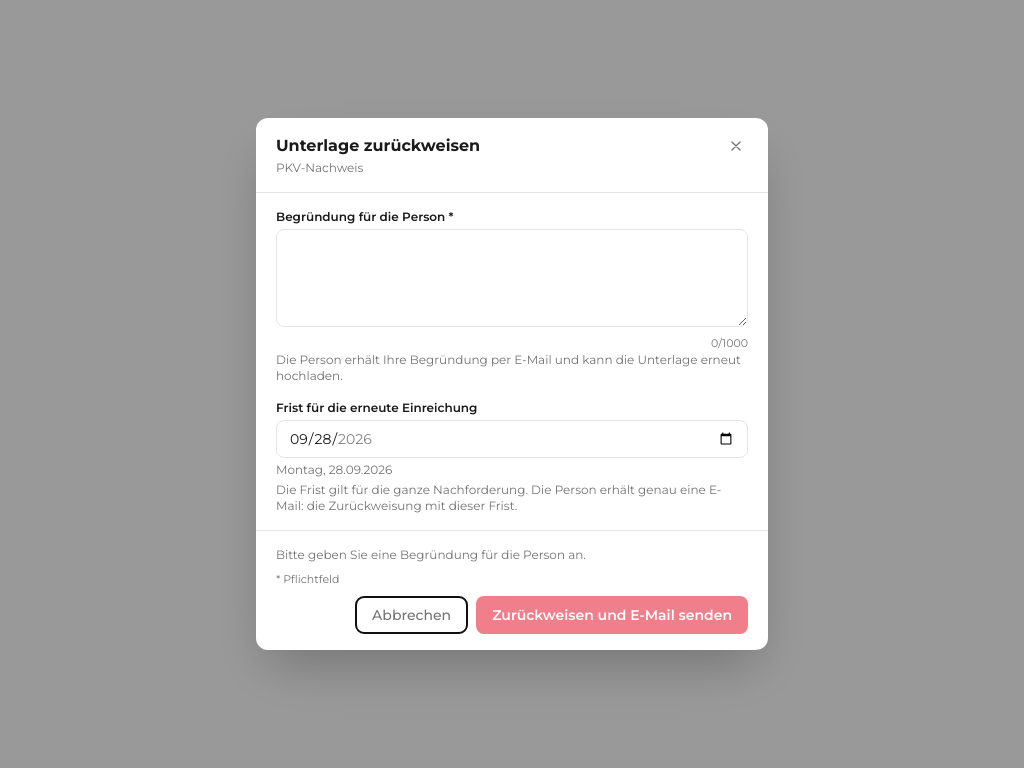
Test: Zurückweisen (EP-1, E-2) › Frist am Wochenende: Hinweis, aber keine Sperre (EP-5)
The width and height of the screenshot is (1024, 768).
Type "Unleserlich." into the text box labelled "Begründung für die Person *" at (512, 278), box [276,229,748,327]
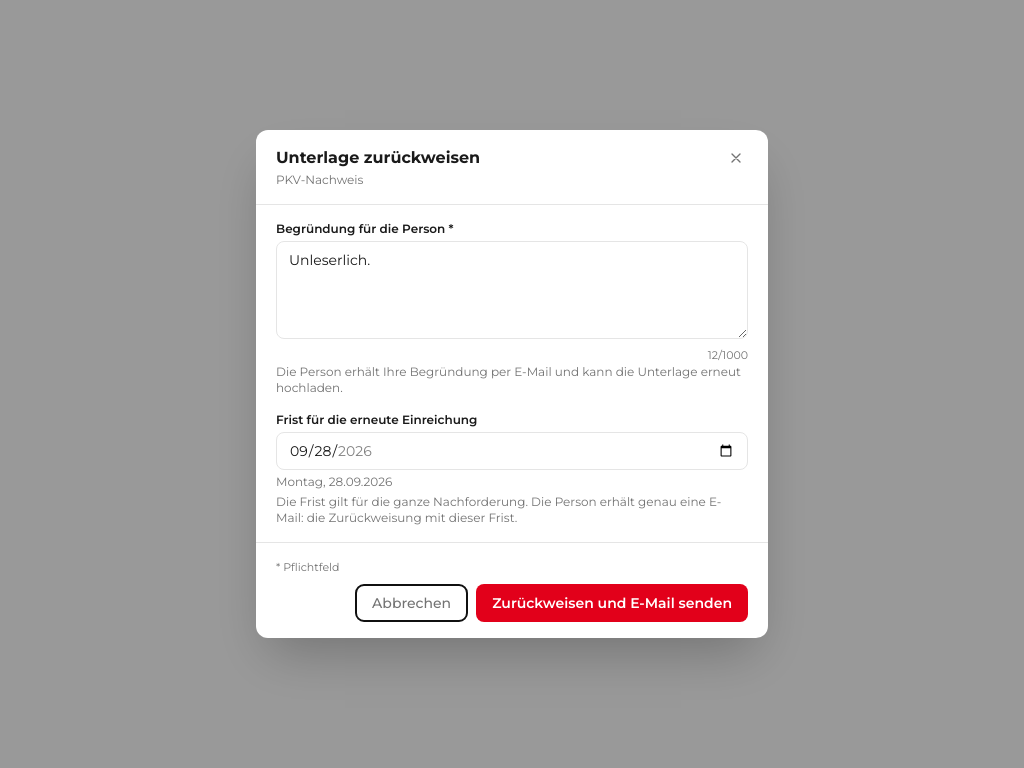
Type "2026-10-03" into the date field labelled "Frist für die erneute Einreichung" at (512, 451), box [276,432,748,470]
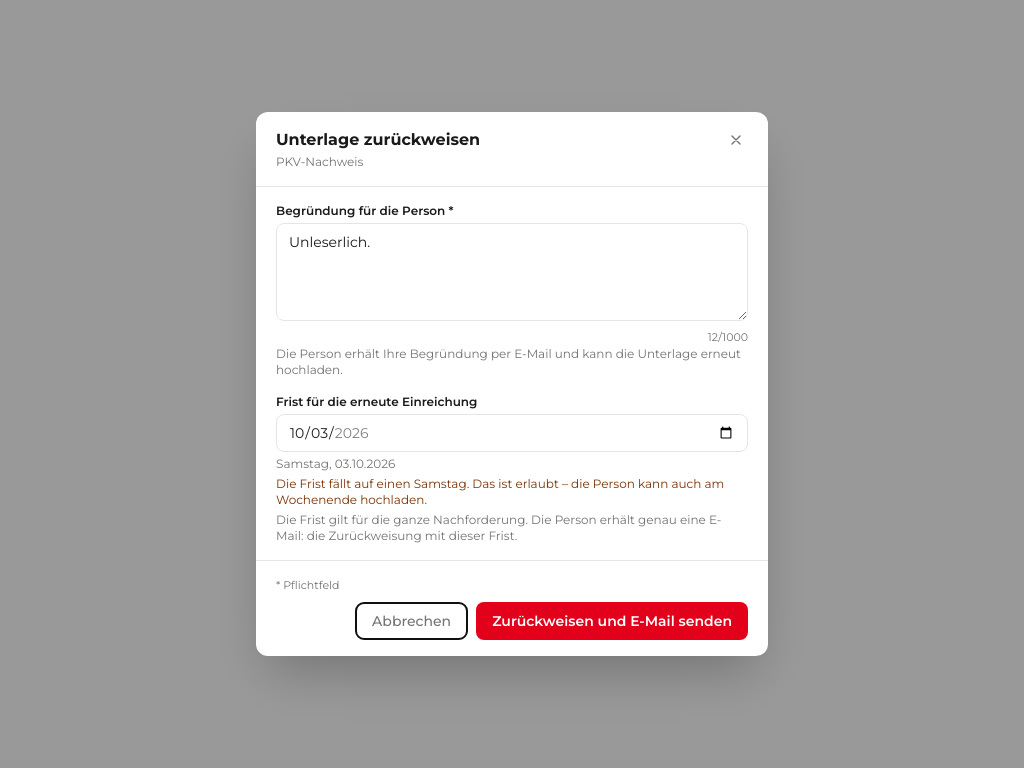
Now the button "Zurückweisen und E-Mail senden" is enabled, box [476,602,748,640]
Now the text "Samstag, 03.10.2026" is shown, box [276,456,395,471]
